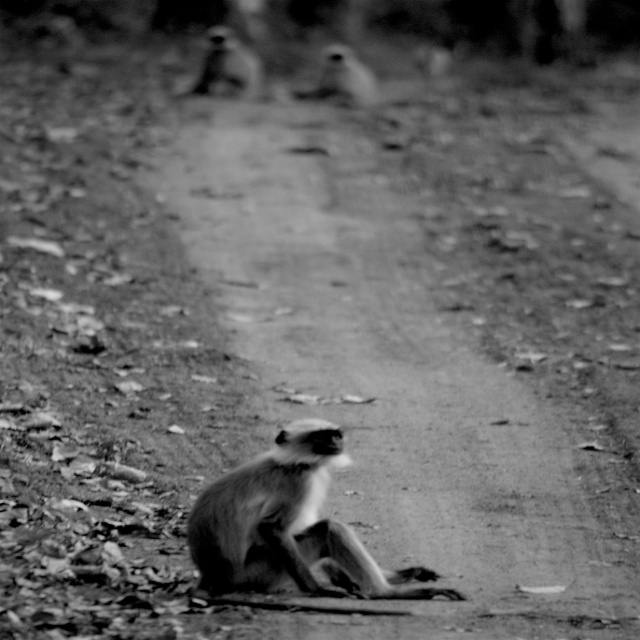Monkey: (186, 418, 440, 604)
